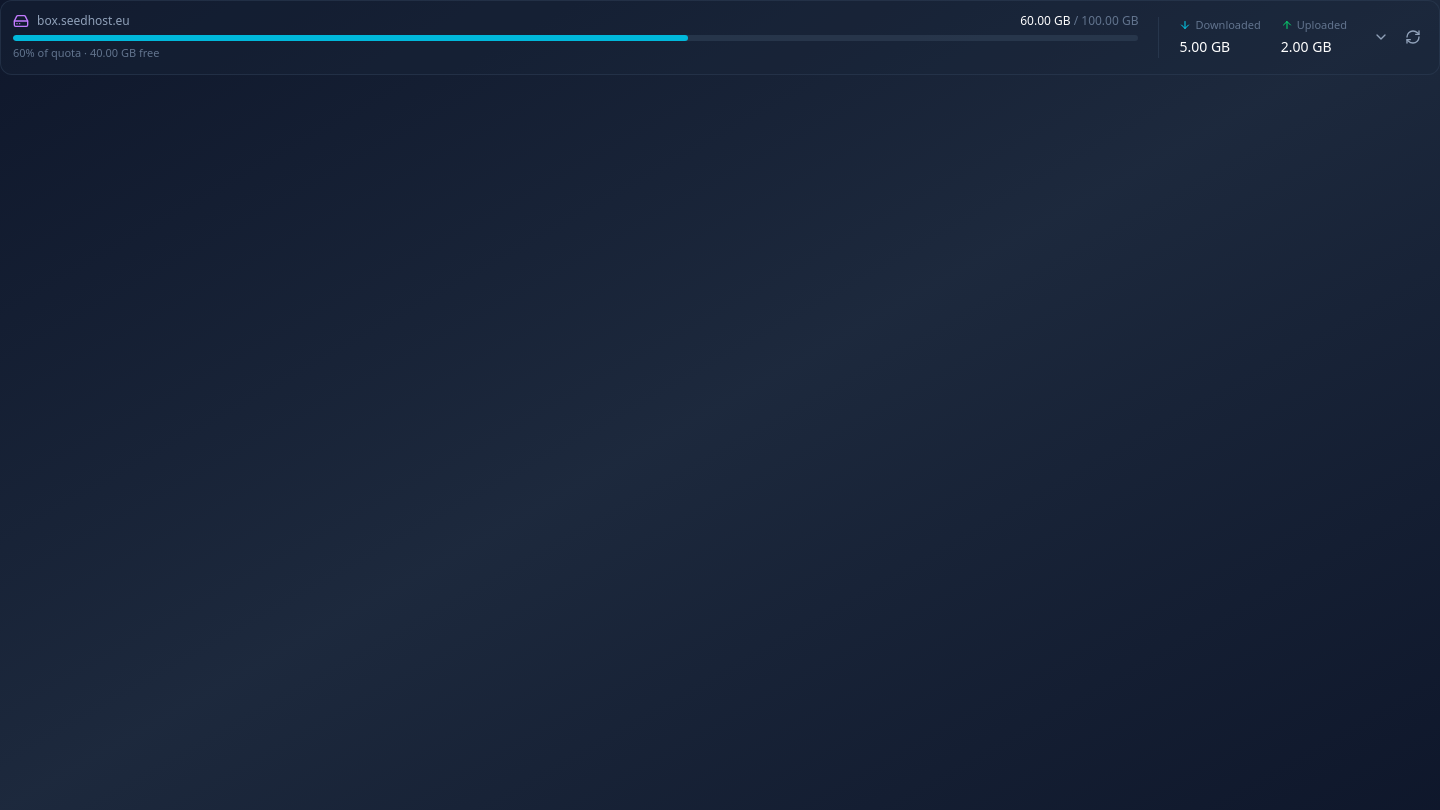
Test: VpsUsageBar - the details behind the chevron › has no rate on the first poll and says so
The image size is (1440, 810).
Step 1. Click the button titled "Per-client split and server health" → coordinates (1381, 37), box [1367,23,1395,51]
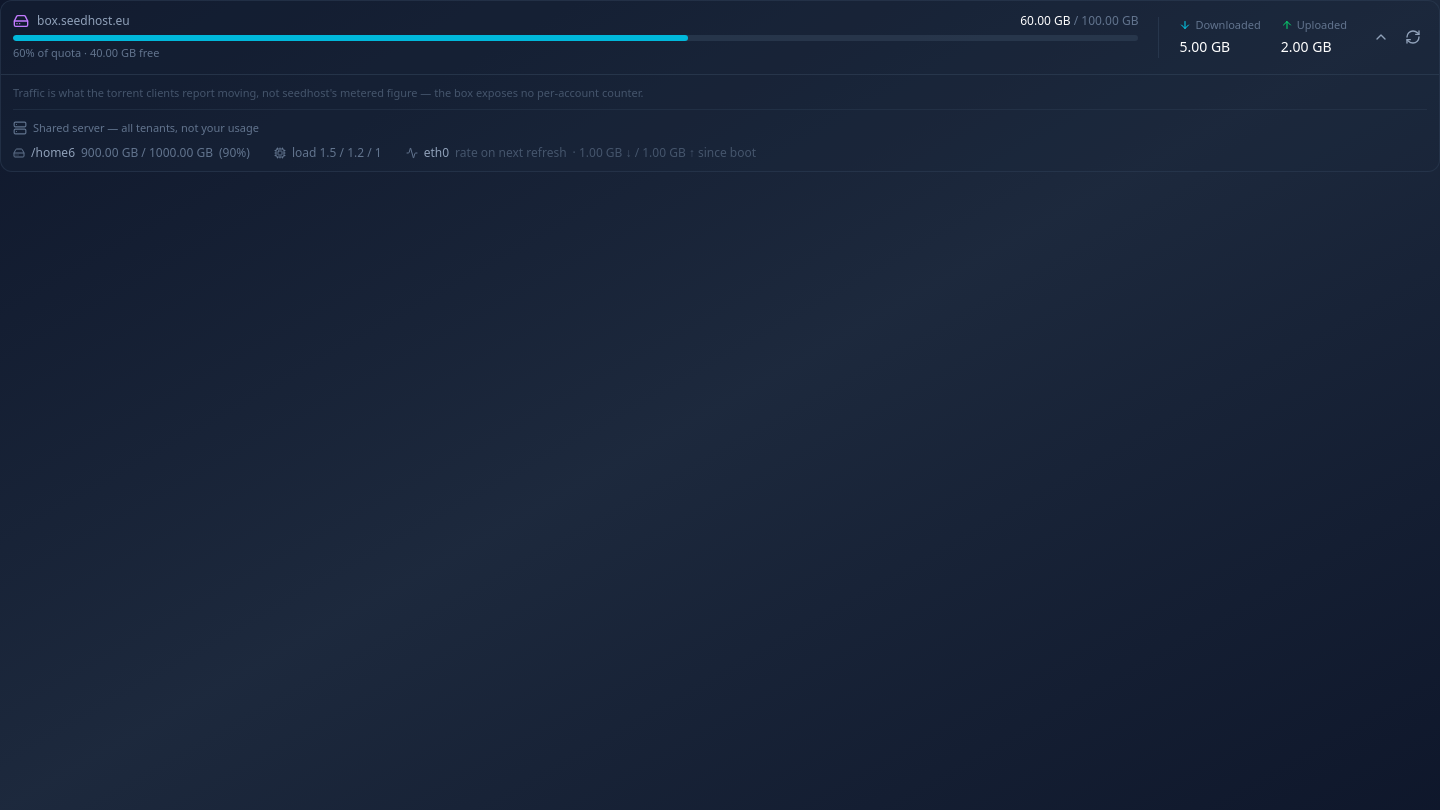
Now the text "rate on next refresh" is shown, box [455,144,567,160]
